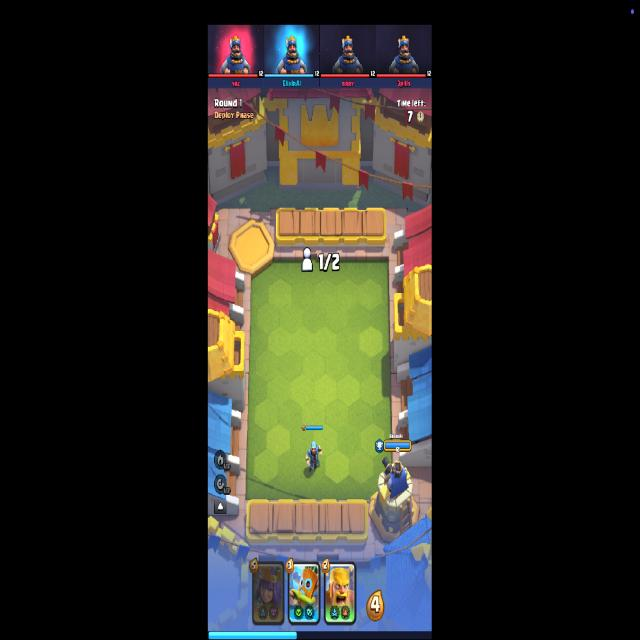card_archer_queen: (252, 561, 284, 625)
card_barbarian: (323, 560, 357, 626)
card_dart_goblin: (288, 560, 320, 626)
wizard: (306, 441, 322, 472)
